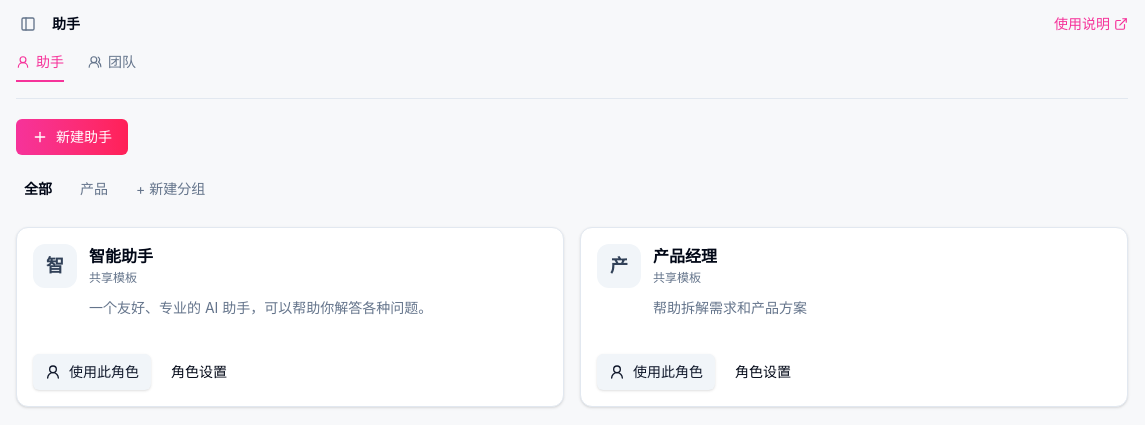
CharactersPage › filters assistants by group
The image size is (1145, 425).
Step 1. Click the button "产品" → (94, 189), box 72,175 -> 116,203
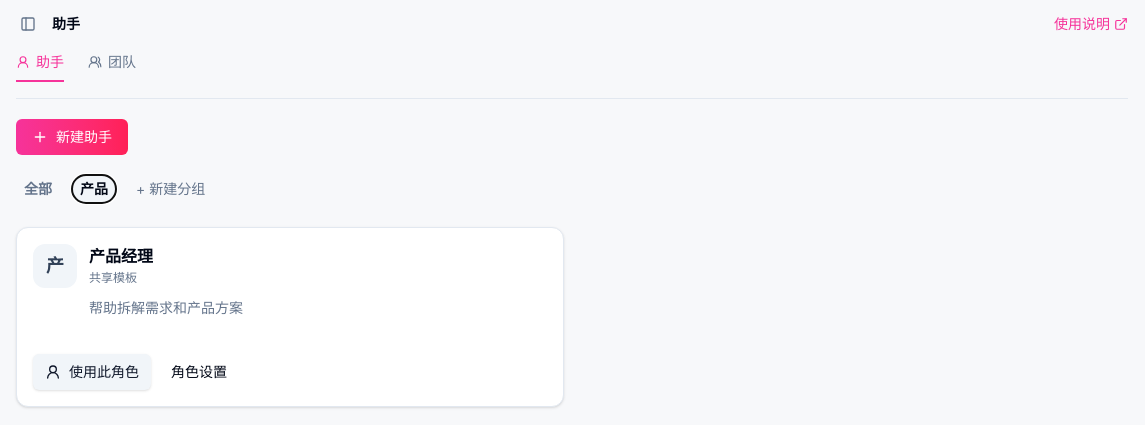
Expected: the element with test id "character-card-character-2" is shown, 16,227 -> 564,407
Now the element with test id "character-card-character-1" is gone
